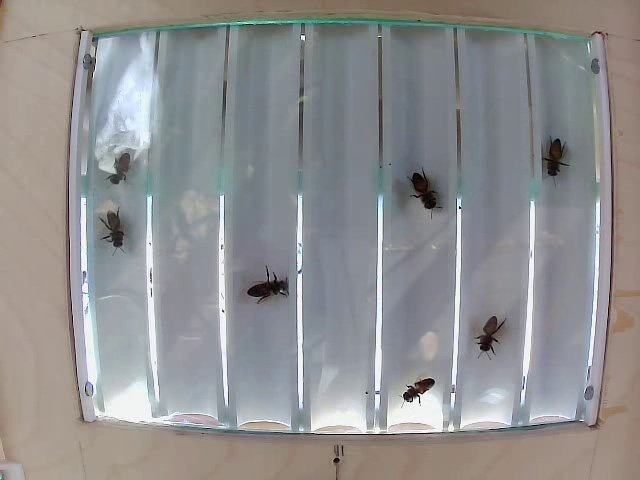bee: (405, 167, 444, 220), (245, 265, 291, 303), (474, 314, 510, 359), (96, 208, 130, 255), (542, 133, 572, 184), (107, 151, 133, 193), (400, 376, 437, 404)
